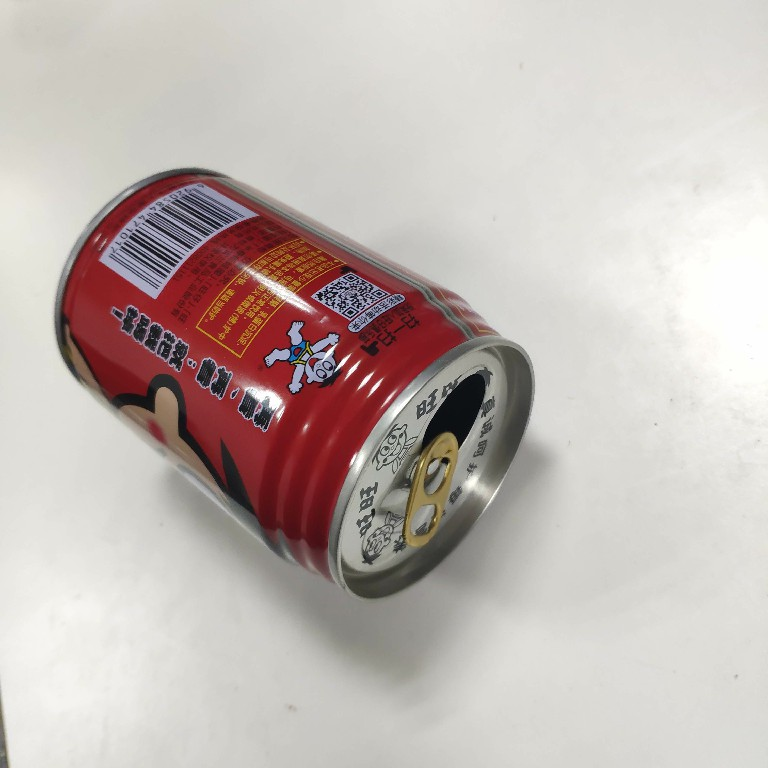can: (40, 160, 537, 607)
